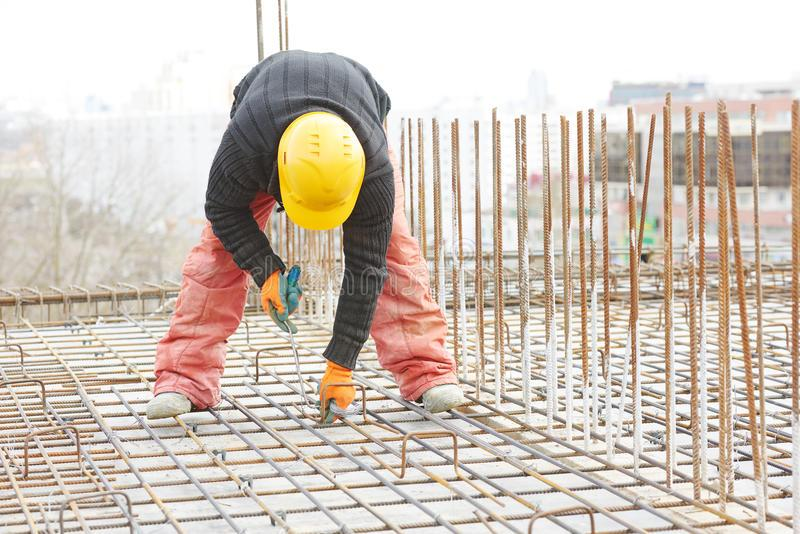helmet: (277, 112, 368, 231)
